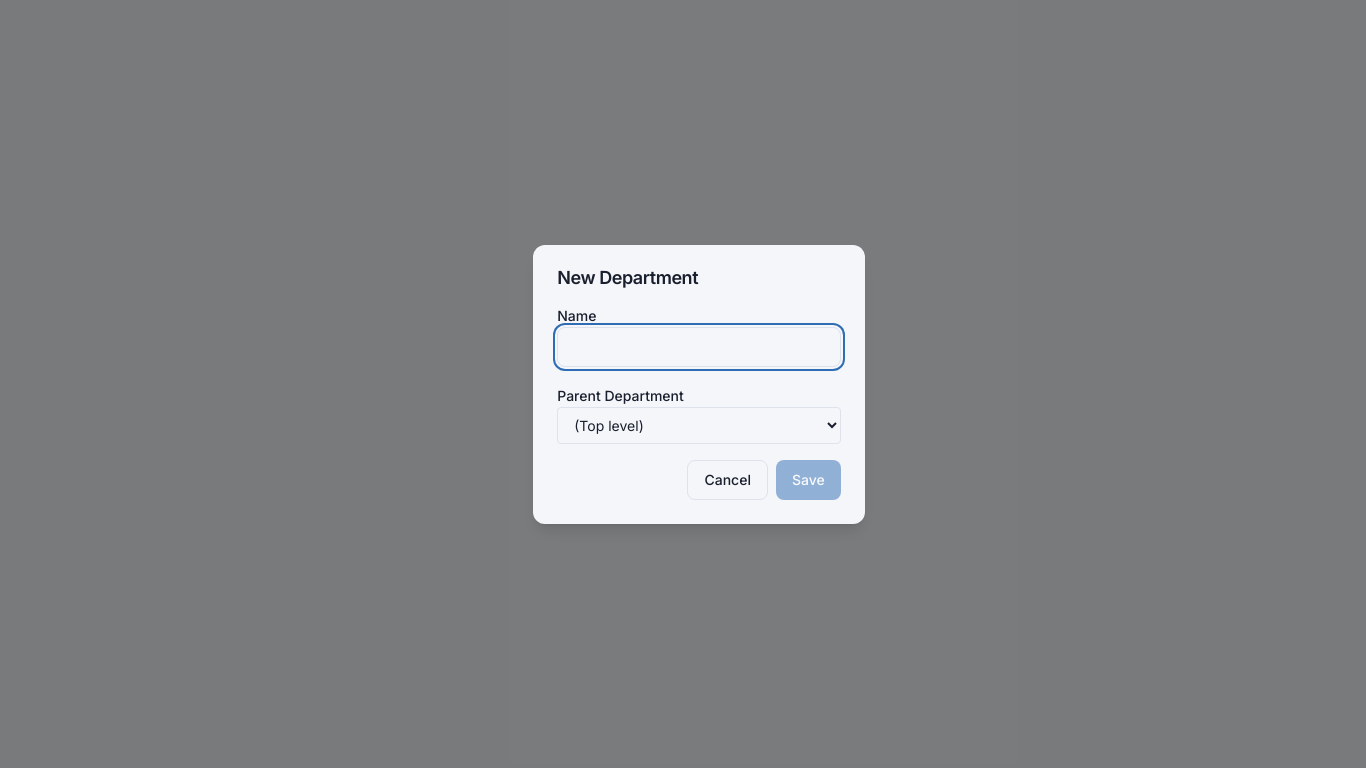
Test case: DepartmentCreateModal › shows the parent-not-found message inline on NOT_FOUND
Type "Sales" into the field labelled "Name".
click(699, 346); type("Sales")  # box [557, 326, 841, 366]
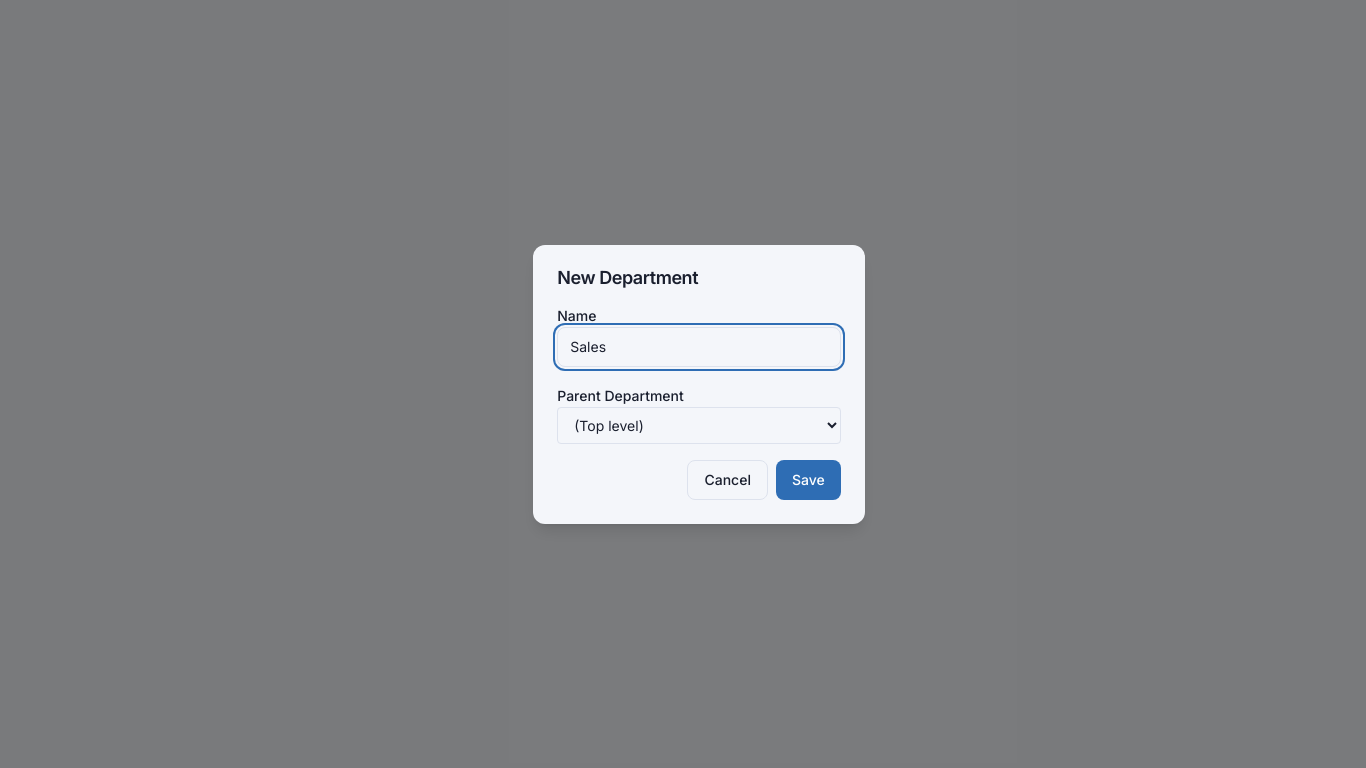
Click the button "Save".
click(808, 480)  # box [776, 460, 841, 500]
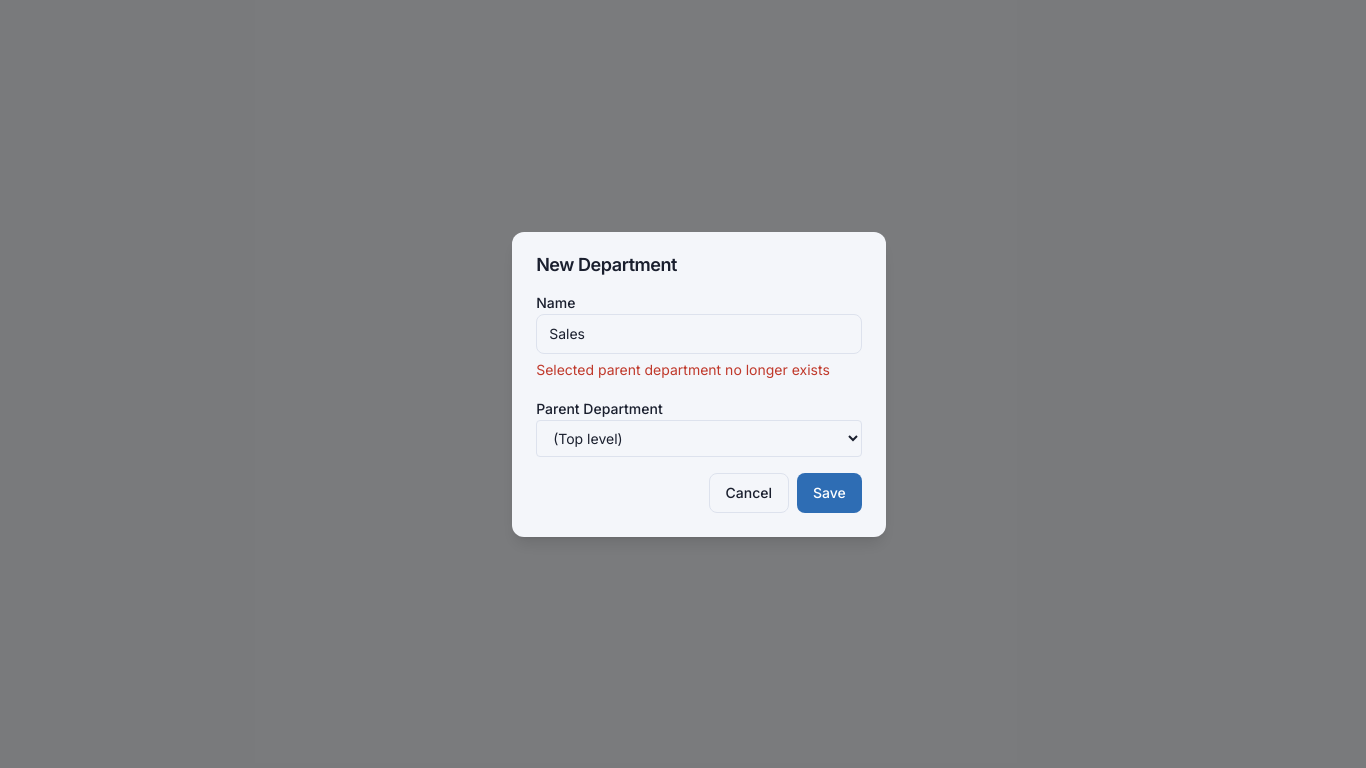
Expected: the text "Selected parent department no longer exists" is shown, [536, 360, 862, 380]
